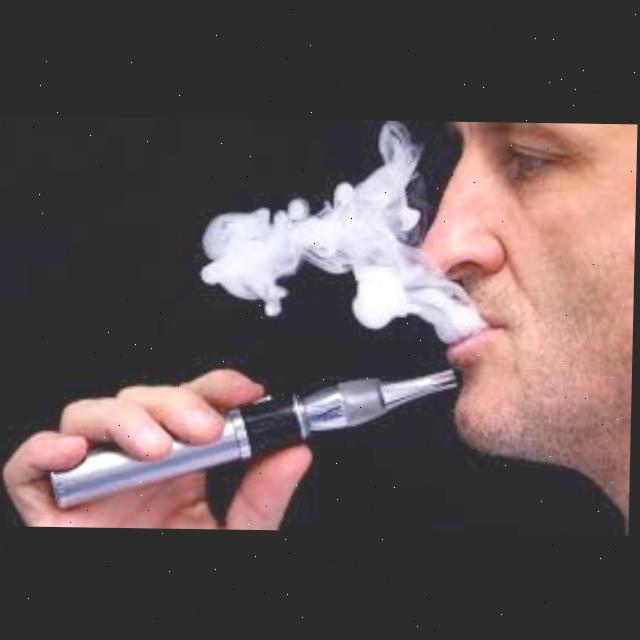vape: (52, 361, 467, 513)
